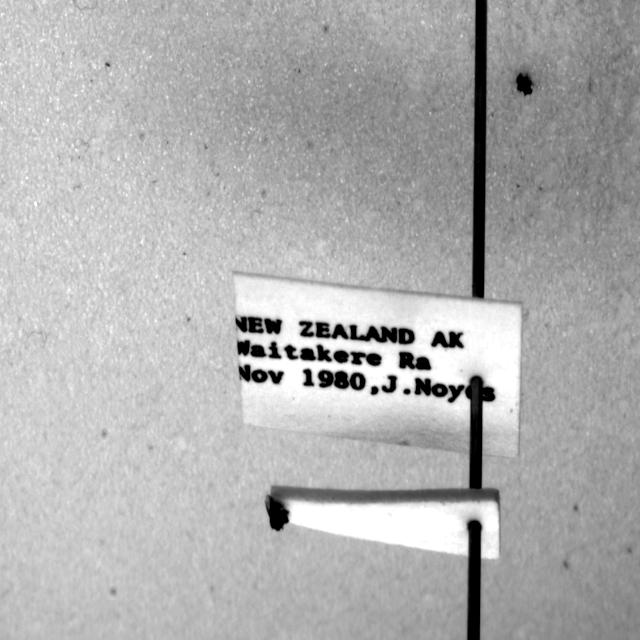typed_label: (234, 274, 522, 458)
